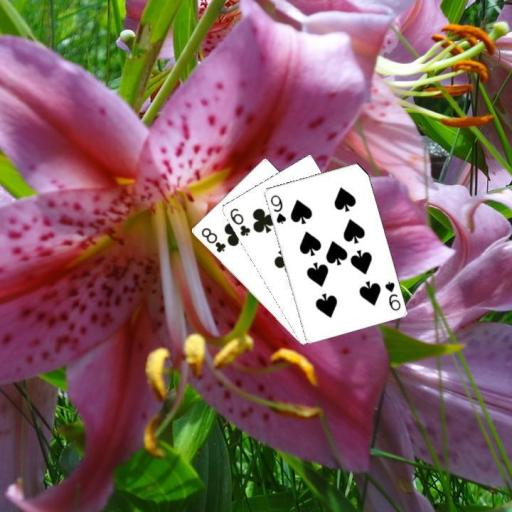6C: (226, 205, 252, 237)
8C: (198, 224, 227, 254)
9S: (381, 278, 402, 312), (268, 192, 288, 226)
